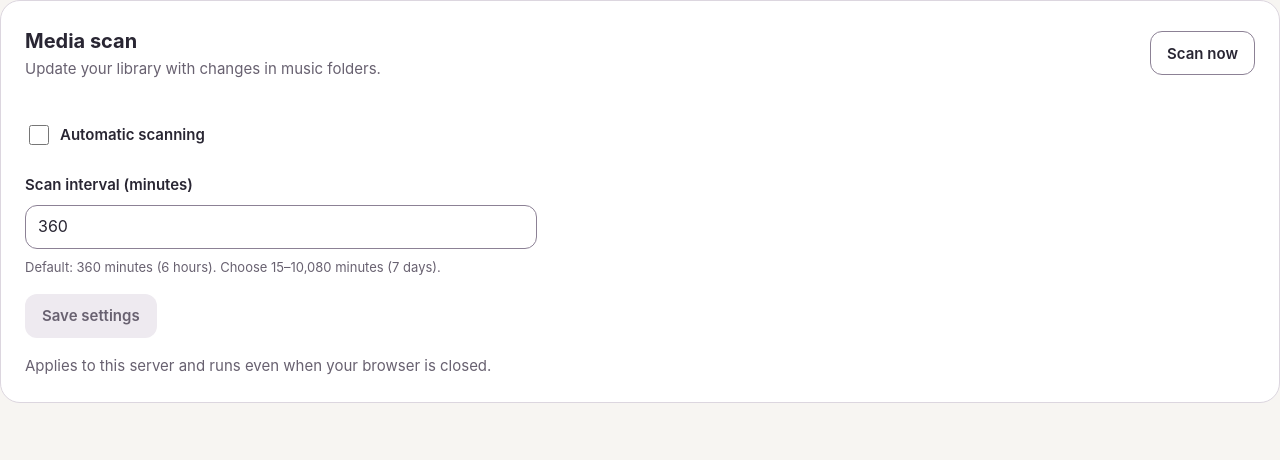
Test case: shows six-hour default, saves an enabled interval and starts a scan
Expected: the number field labelled "Scan interval (minutes)" holds "360", [25, 205, 537, 249]
Click the checkbox labelled "Automatic scanning": (39,135) [29, 125, 49, 145]
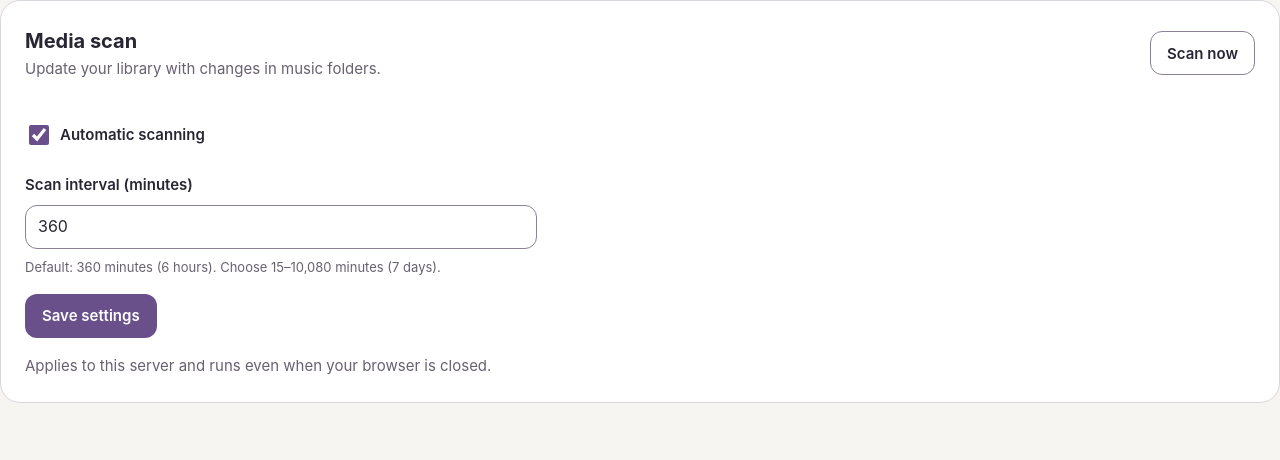
Click the button "Save settings": (91,316) [25, 294, 157, 338]
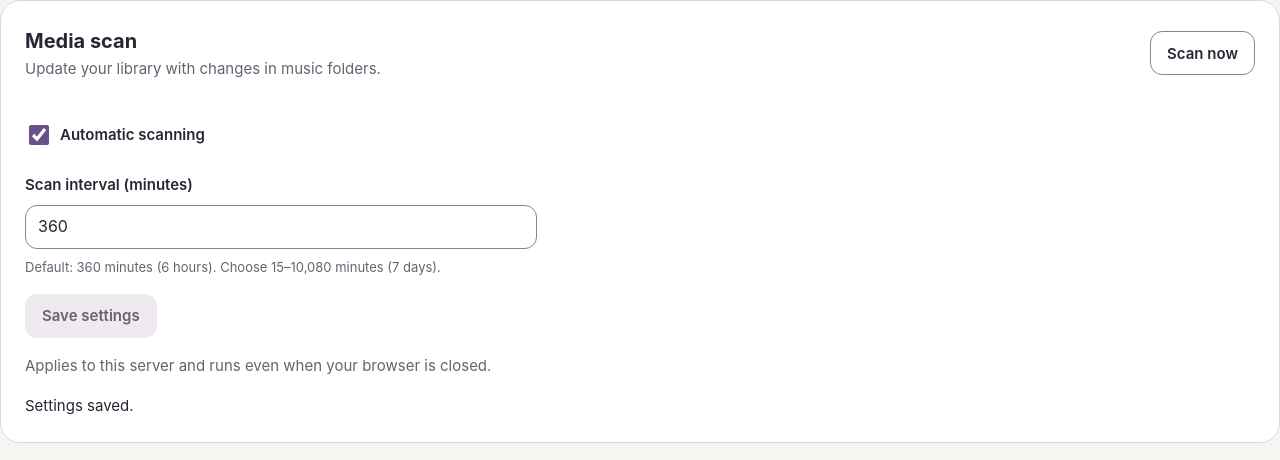
Now the text "Settings saved." is shown, box [25, 396, 134, 415]
Click the button "Scan now": (1203,53) [1150, 31, 1255, 75]
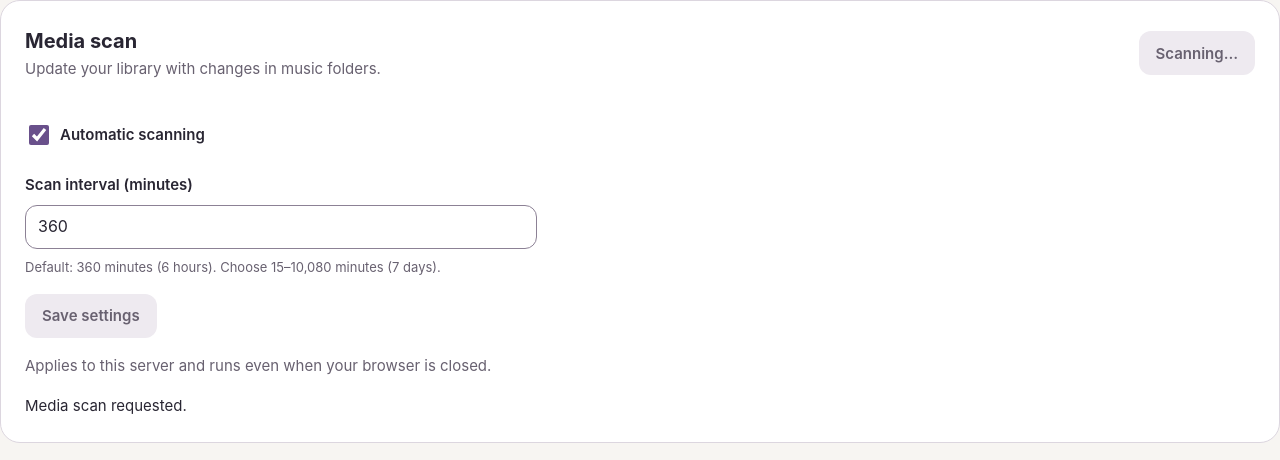
Now the text "Media scan requested." is shown, box [25, 396, 187, 415]
